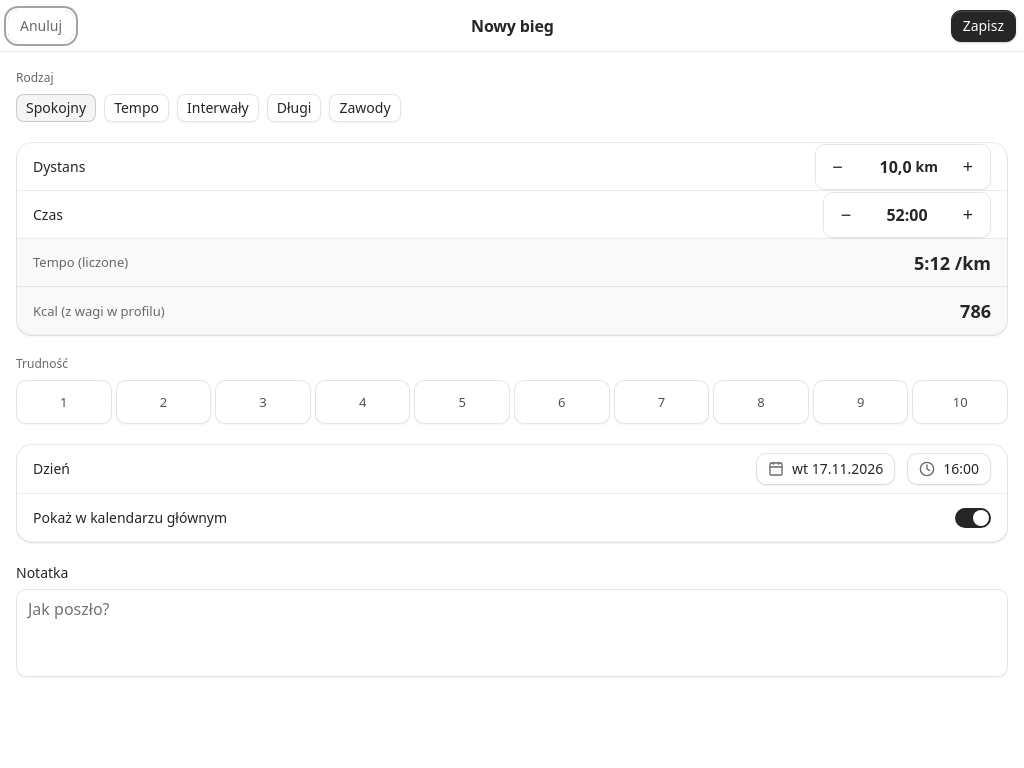
Scenario: MRunNew › kcal liczone jak na webie z wagi w profilu; bez dystansu „—”
The width and height of the screenshot is (1024, 768).
Clear the field named "Dystans (km)": (886, 166) [860,144,912,188]
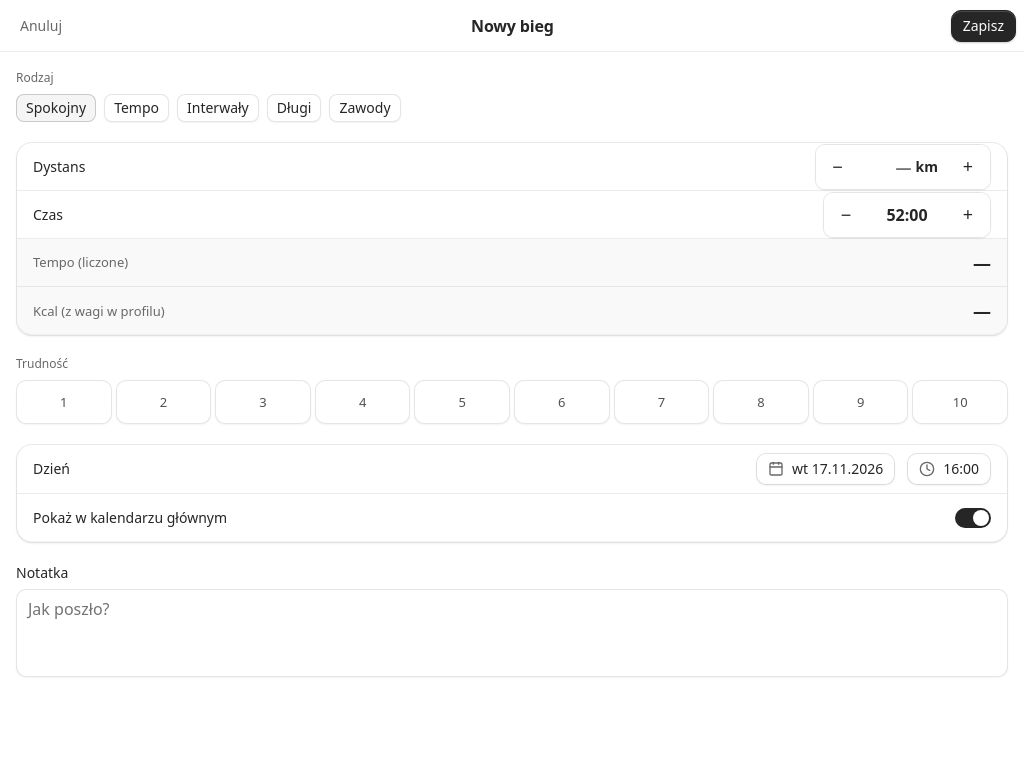
Check: the text with test id "kcal" reads "—", box [973,299,991,323]
